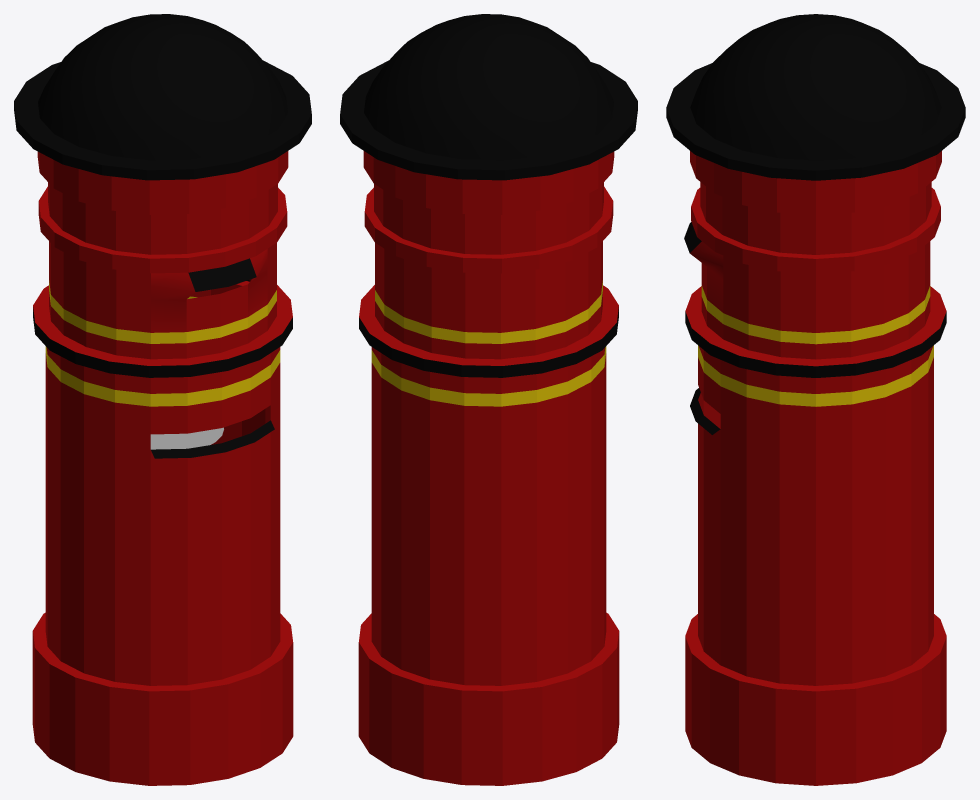
Rendered from post box.fbx.
The picture shows the model from 3 angles, left to right: view 1: azimuth 30°, elevation 25°; view 2: azimuth 150°, elevation 25°; view 3: azimuth 270°, elevation 25°; orthographic projection.
Parts seen in each view (by area): view 1: pCone1, pSphere1, pDisc1; view 2: pCone1, pSphere1; view 3: pCone1, pSphere1.
Part boxes in pixels (left/top/right/bottom): pCone1: left=14, top=60, right=311, bottom=785; pSphere1: left=38, top=14, right=287, bottom=160; pDisc1: left=150, top=427, right=223, bottom=449; pCone1: left=340, top=60, right=637, bottom=785; pSphere1: left=364, top=14, right=613, bottom=160; pCone1: left=666, top=63, right=965, bottom=785; pSphere1: left=690, top=14, right=941, bottom=160.
Size of the model in its own units: 4.89 by 12.7 by 4.89.
